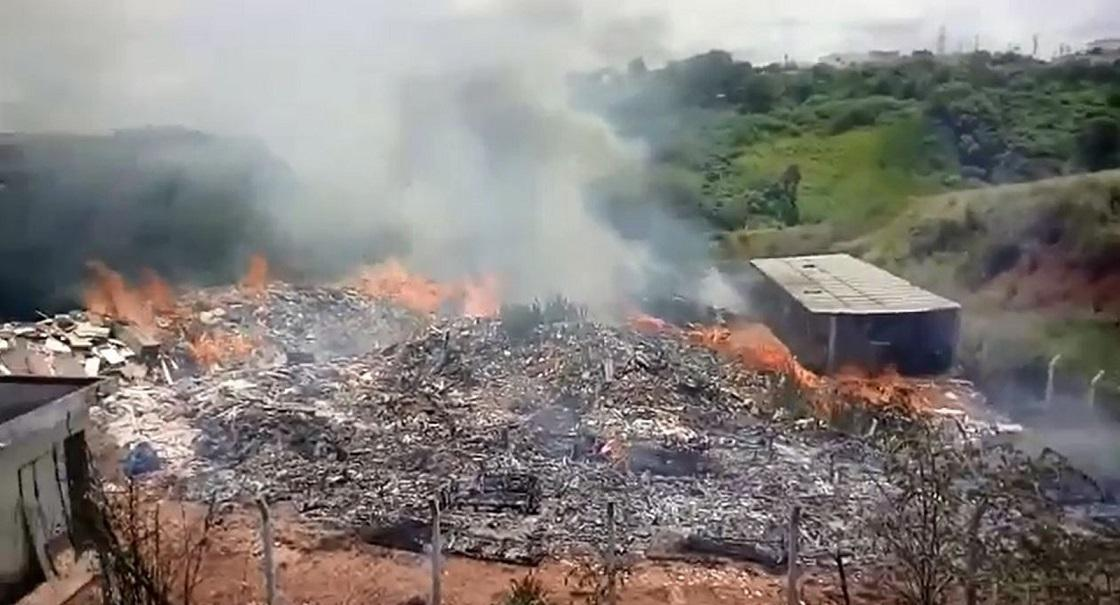smoke: (283, 17, 548, 255)
